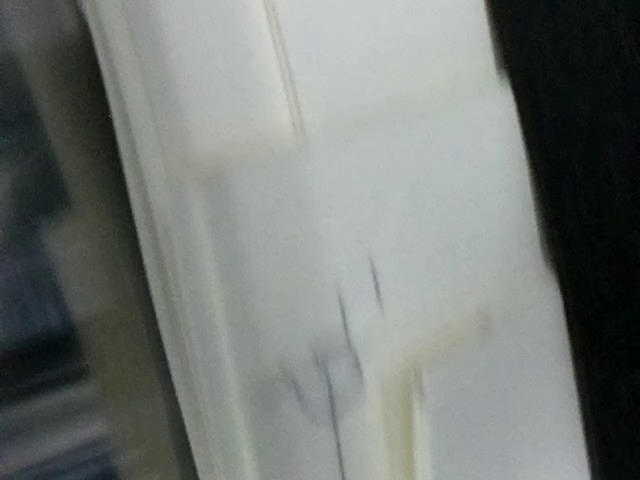not_sure: (237, 283, 371, 425)
